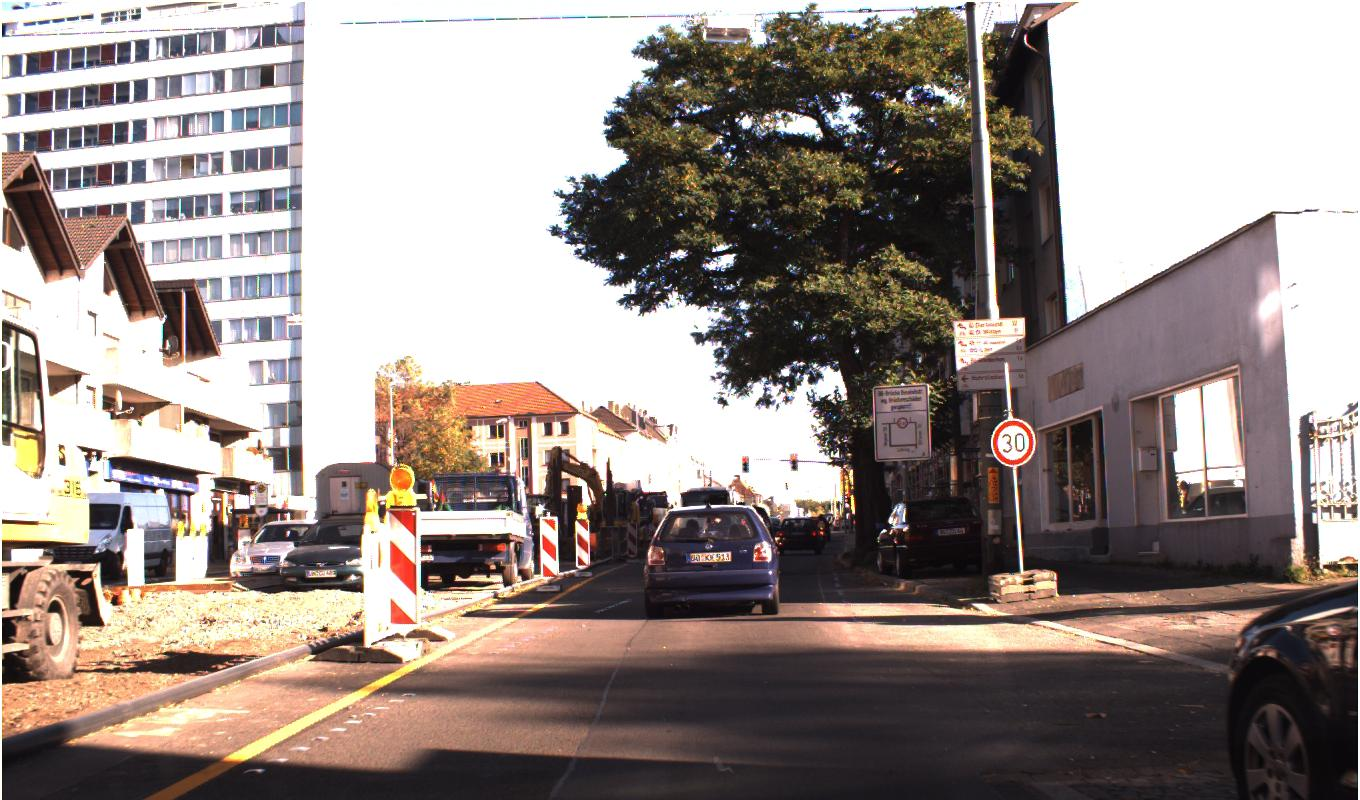prohibitory: (990, 418, 1036, 467)
